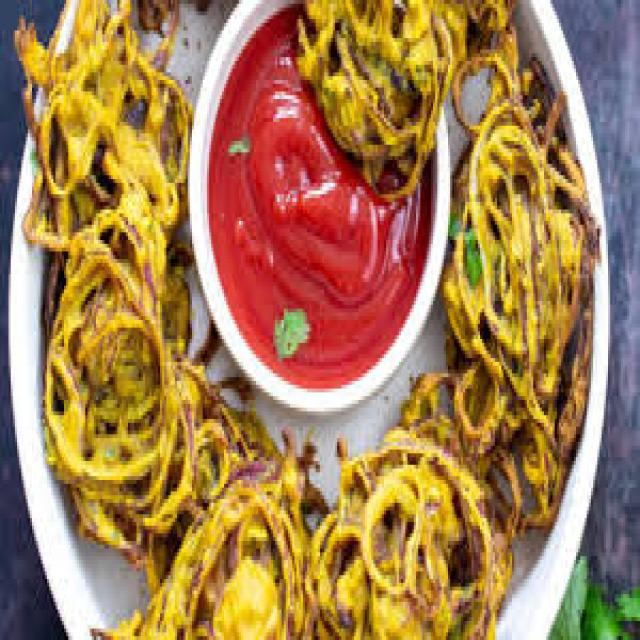BAJI: (17, 15, 598, 636), (300, 2, 523, 178)
